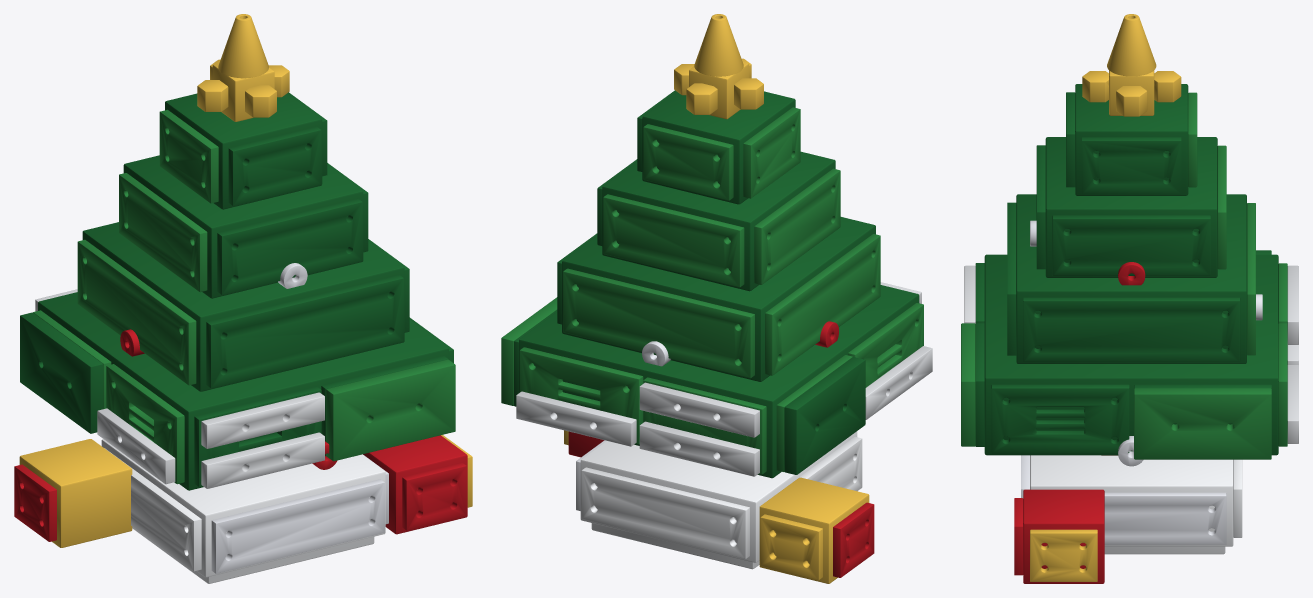
Rendered from hol_newyear.glb.
3 views of the same model, side by side, from view 1: azimuth 30°, elevation 25°; view 2: azimuth 150°, elevation 25°; view 3: azimuth 270°, elevation 25° (orthographic). The views are drawn at different scales.
Visible parts, largest first — view 1: plate33, body12, plate1, hood17, body32, core, plate40, plate37, body8, body39, hood31, plate45 (+18 smaller); view 2: plate34, body12, body32, plate2, plate42, core, plate37, body39, hood31, plate45, plate22, plate48 (+19 smaller); view 3: plate36, body12, hood26, body32, plate43, plate24, core, body39, plate3, plate49, body46, body5 (+25 smaller).
Boxes of the visible parts, left/top/right/bottom form: plate33: left=206, top=275, right=403, bottom=388; body12: left=38, top=292, right=448, bottom=490; plate1: left=211, top=479, right=384, bottom=573; hood17: left=326, top=359, right=455, bottom=461; body32: left=82, top=222, right=404, bottom=391; core: left=101, top=439, right=385, bottom=583; plate40: left=217, top=198, right=362, bottom=294; plate37: left=77, top=239, right=196, bottom=385; body8: left=19, top=439, right=132, bottom=547; body39: left=123, top=155, right=363, bottom=298; hood31: left=20, top=312, right=103, bottom=433; plate45: left=119, top=173, right=207, bottom=292; plate34: left=563, top=268, right=754, bottom=378; body12: left=519, top=285, right=919, bottom=478; body32: left=562, top=217, right=875, bottom=381; plate2: left=581, top=467, right=749, bottom=558; plate42: left=603, top=194, right=744, bottom=287; core: left=580, top=431, right=857, bottom=569; plate37: left=765, top=234, right=880, bottom=375; body39: left=602, top=151, right=835, bottom=291; hood31: left=784, top=357, right=865, bottom=474; plate45: left=754, top=168, right=840, bottom=284; plate22: left=519, top=347, right=643, bottom=444; plate48: left=643, top=124, right=733, bottom=200; plate36: left=1023, top=297, right=1240, bottom=361; body12: left=984, top=254, right=1278, bottom=455; hood26: left=1134, top=388, right=1271, bottom=459; body32: left=1016, top=194, right=1246, bottom=363; plate43: left=1052, top=215, right=1210, bottom=275; plate24: left=991, top=384, right=1129, bottom=453; core: left=1030, top=455, right=1233, bottom=554; body39: left=1045, top=137, right=1217, bottom=277; plate3: left=1104, top=492, right=1226, bottom=544; plate49: left=1082, top=137, right=1181, bottom=193; body46: left=1075, top=84, right=1188, bottom=195; body5: left=1023, top=489, right=1104, bottom=583.
Bounding box in the file's own units: 1.76 × 2.43 × 1.49.
